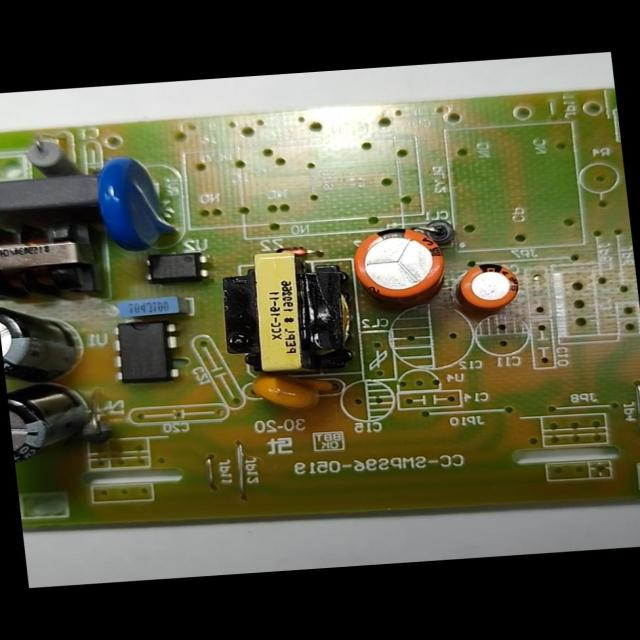Cap1: (348, 221, 456, 305)
Cap2: (454, 259, 522, 315)
Cap3: (0, 294, 94, 388)
Cap4: (6, 380, 97, 466)
MOSFET: (106, 317, 184, 385)
Mov: (88, 150, 183, 256)
Resistor: (13, 133, 82, 179)
Transformer: (212, 248, 357, 384), (0, 212, 110, 302)
